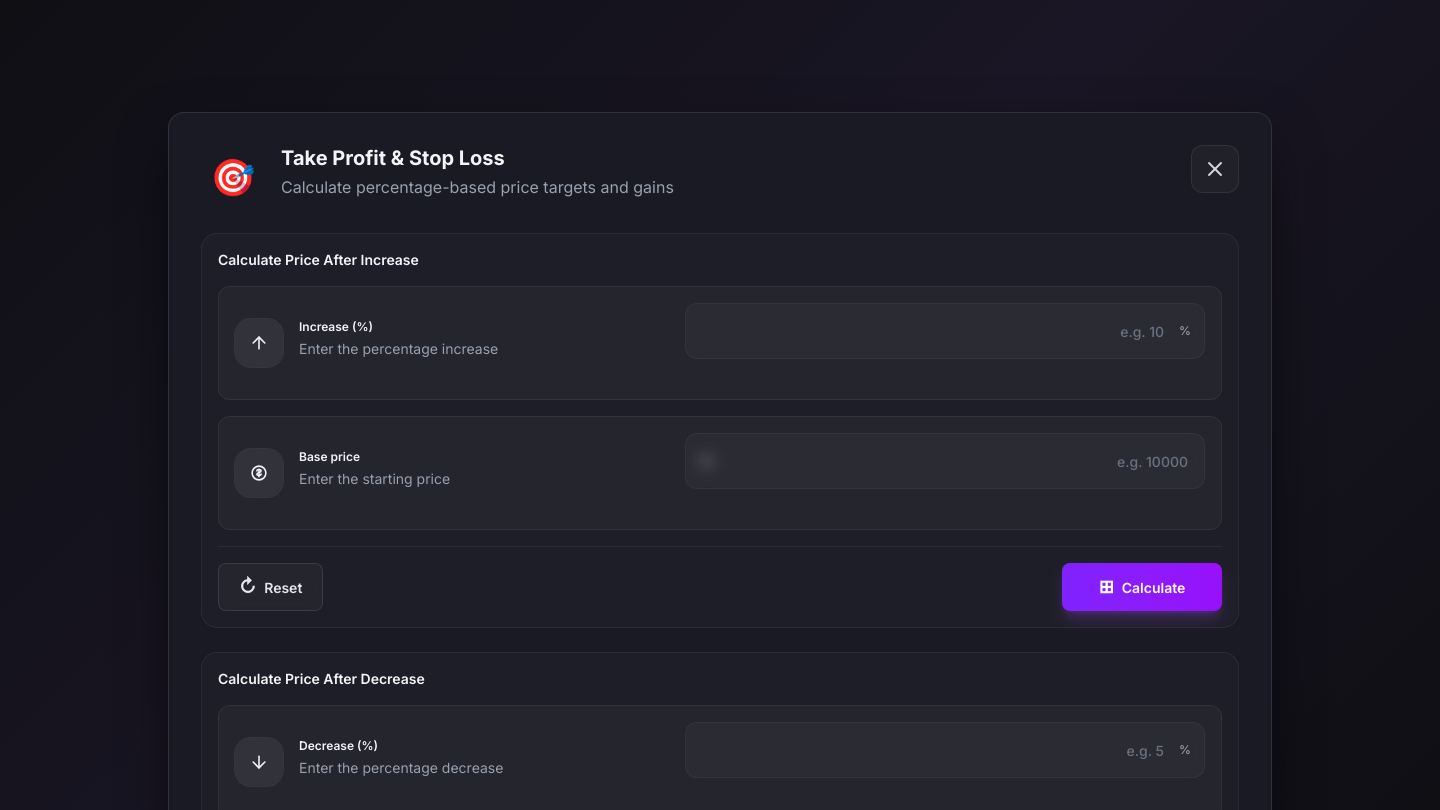
Test: TpSl page › calculates price after increase and shows formatted result
In the field labelled "Increase (%)": (945, 331) left=685, top=303, right=1205, bottom=359, type "10"
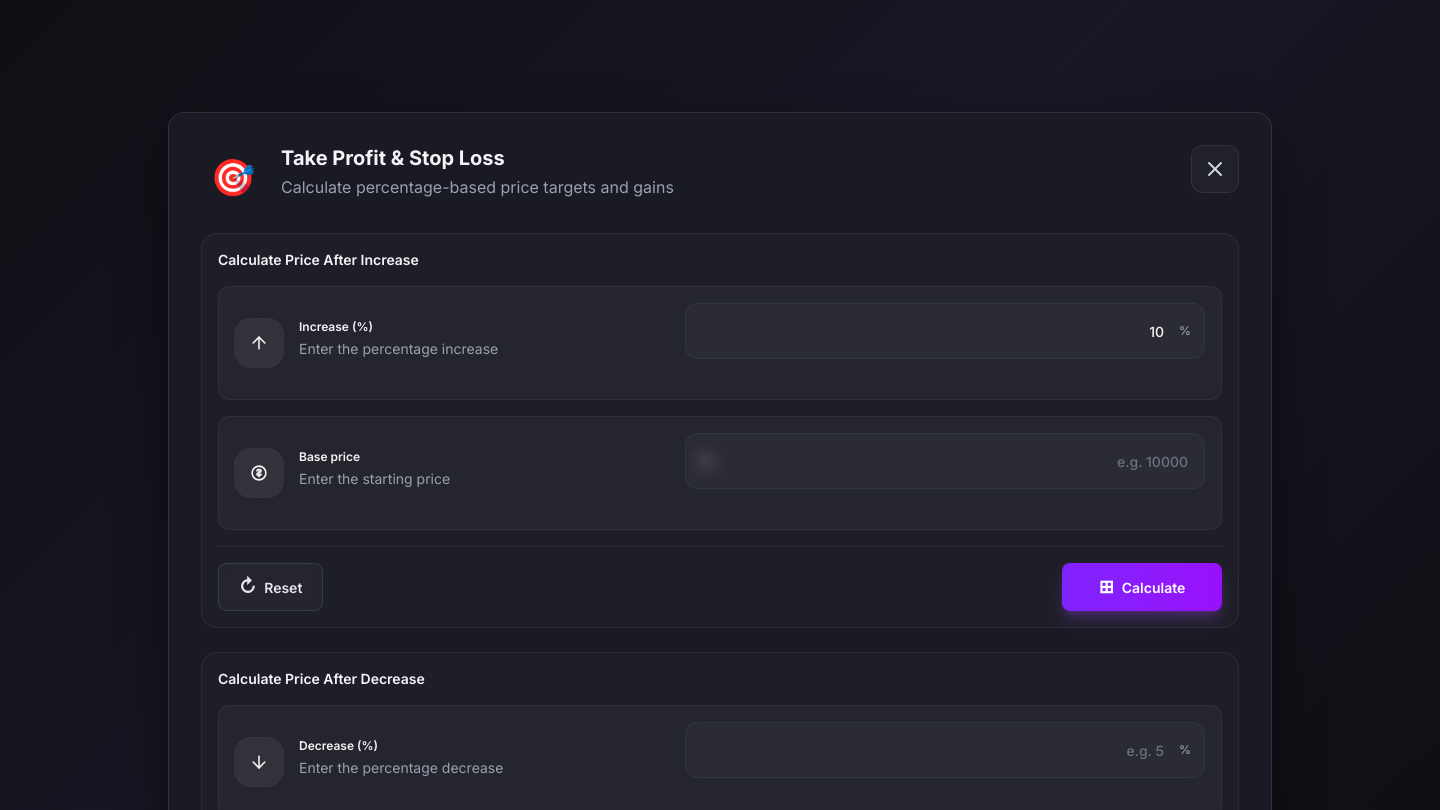
In the field named "Base price (Increase)": (945, 461) left=685, top=433, right=1205, bottom=489, type "10000"
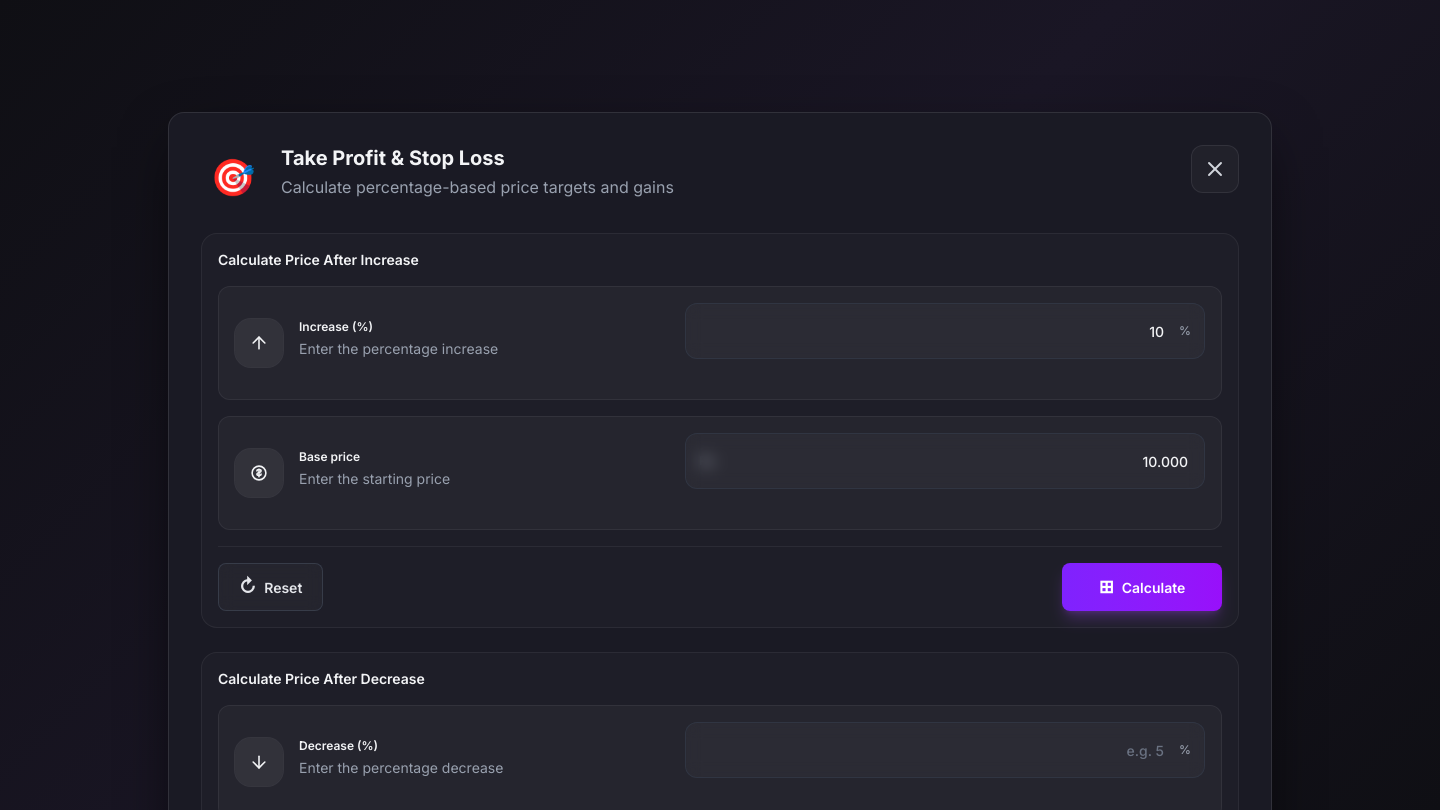
Click the button "⊞ Calculate": (1142, 587) left=1062, top=563, right=1222, bottom=611
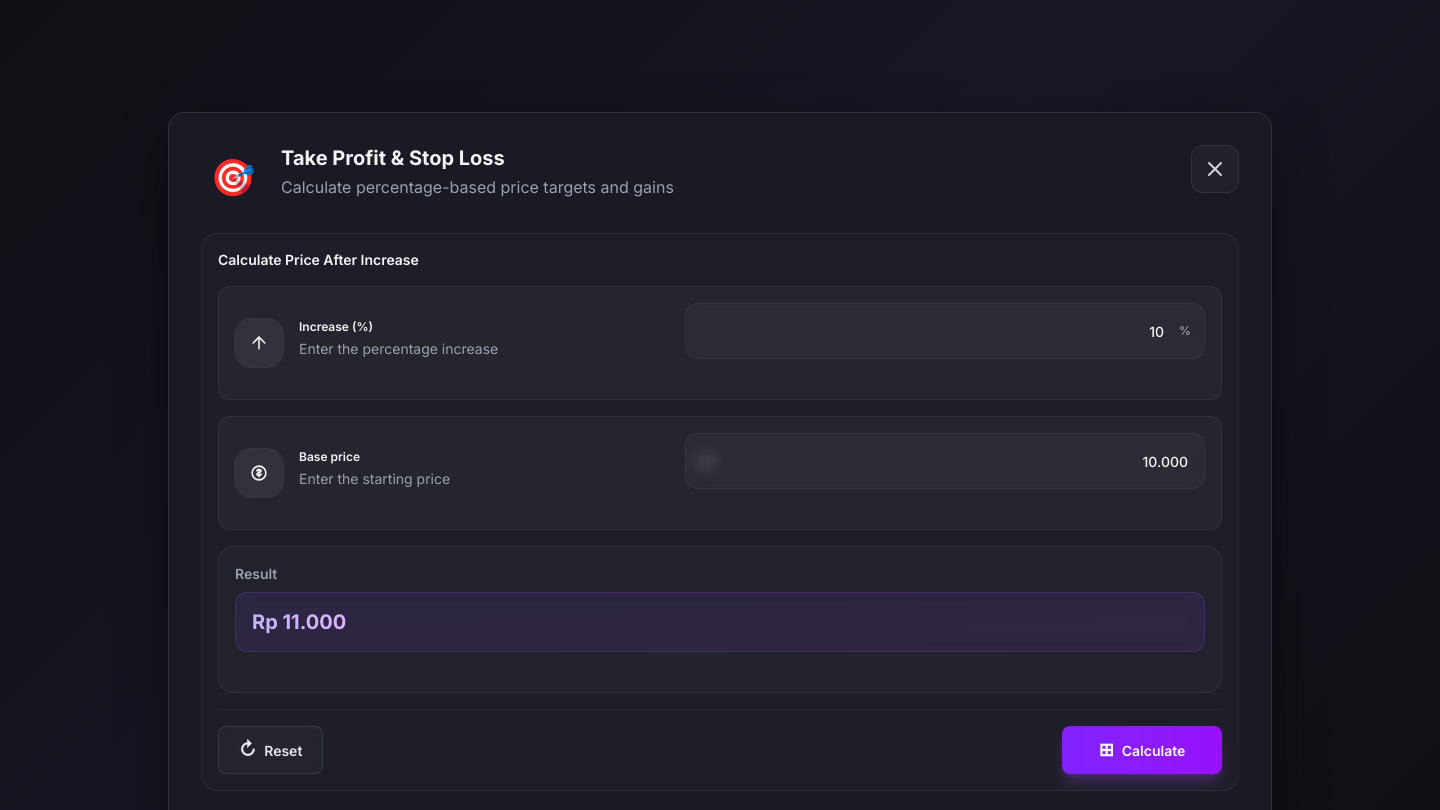
Check: the text "Rp 11.000" is shown, box left=252, top=610, right=346, bottom=634
